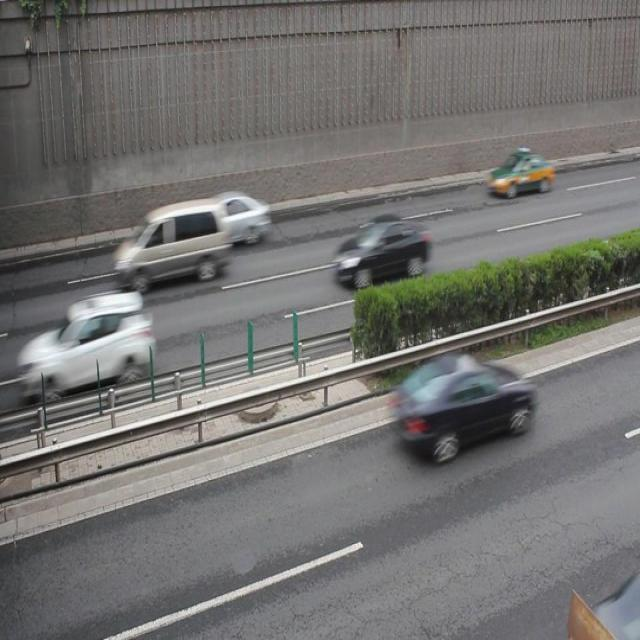car: (391, 349, 532, 458), (40, 290, 154, 391), (334, 213, 431, 286), (200, 190, 270, 247), (487, 147, 553, 197)
truck: (113, 198, 230, 288)
